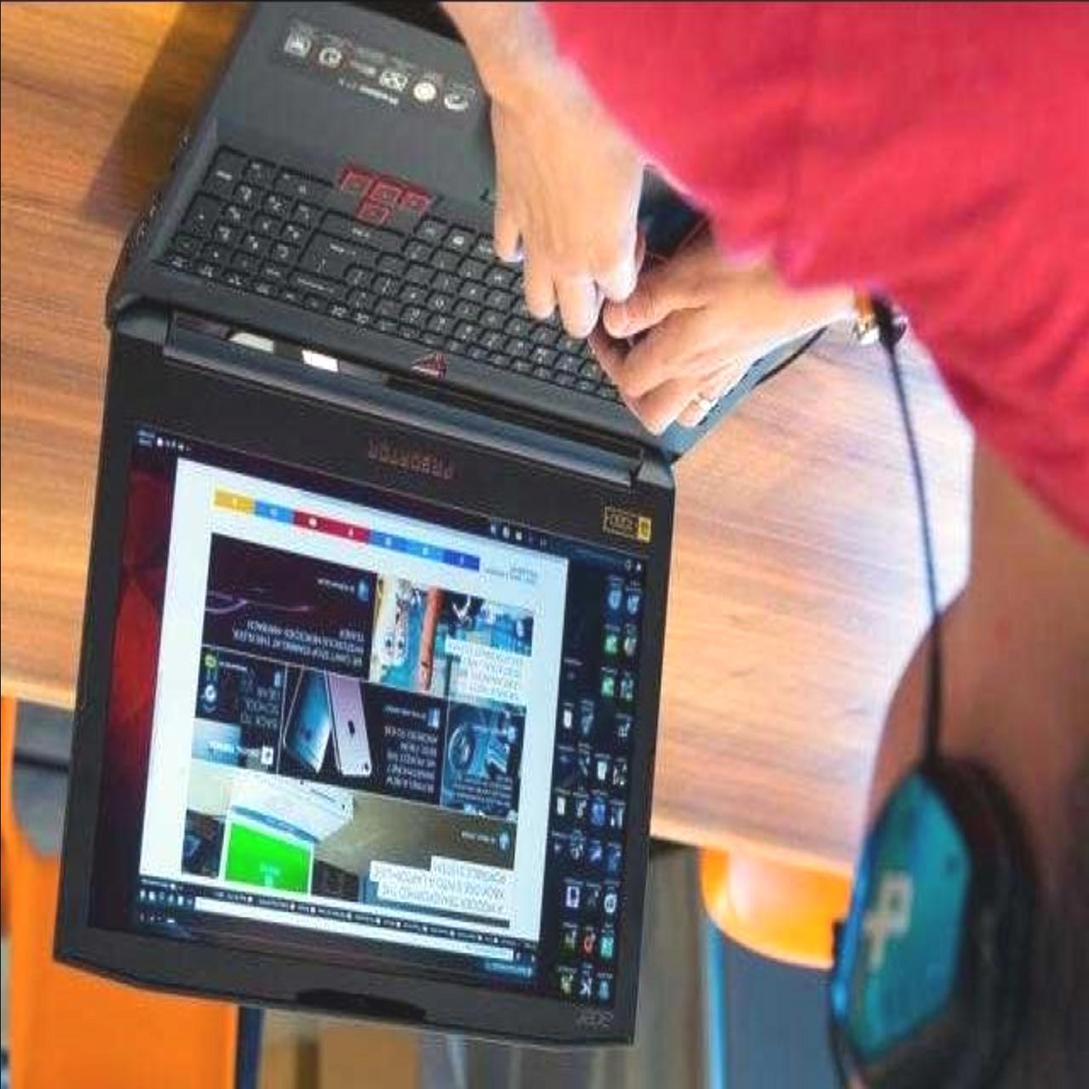laptop: (53, 0, 750, 1028)
